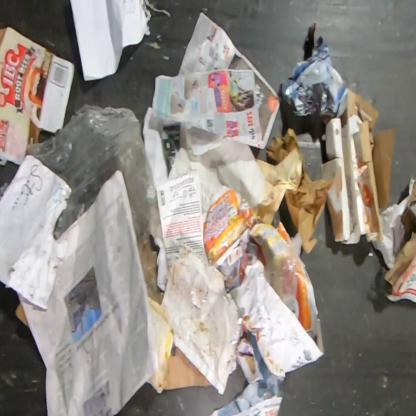cardboard: (320, 90, 395, 247), (0, 25, 76, 167), (380, 231, 416, 305), (162, 346, 212, 390), (398, 175, 415, 250), (13, 301, 30, 327)
soft_plastic: (27, 103, 163, 245), (264, 231, 302, 317), (0, 183, 10, 204)
